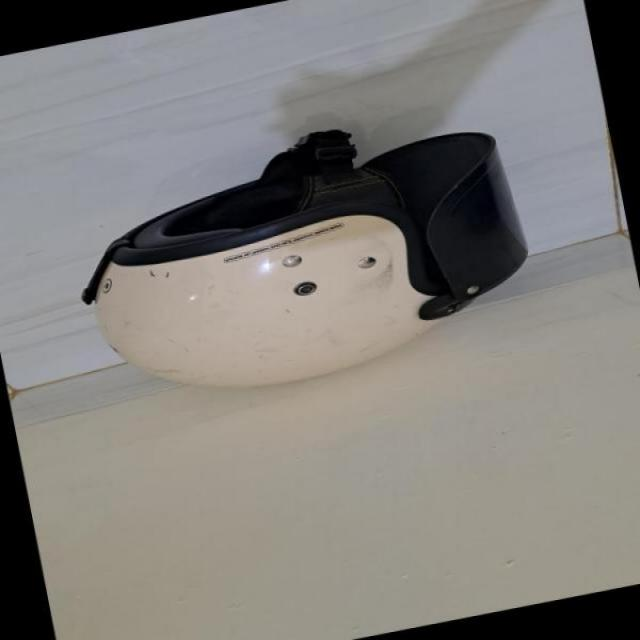Helmet: (54, 106, 529, 394)
